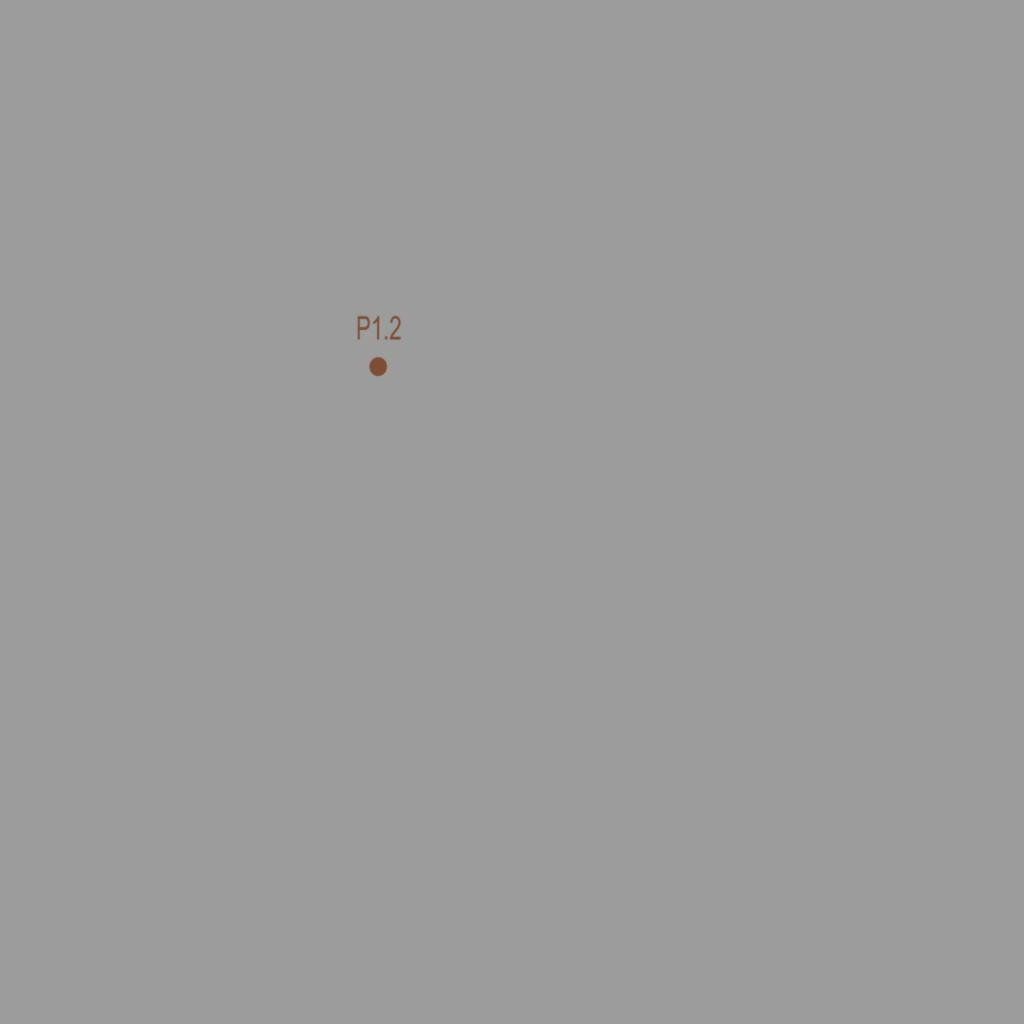Downlight_LED_Einbauleuchten_Flur: (356, 314, 402, 378)
